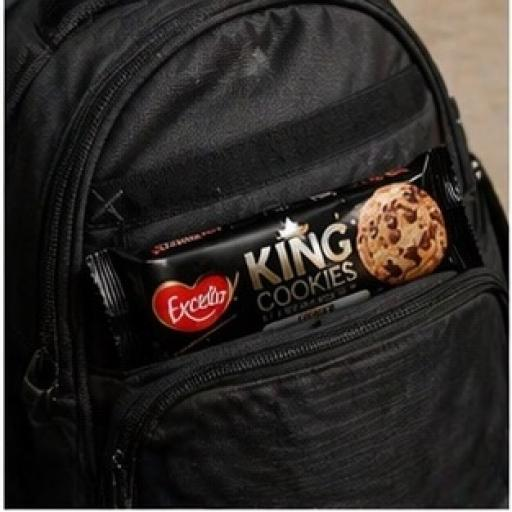king-cooking: (82, 126, 498, 369)
